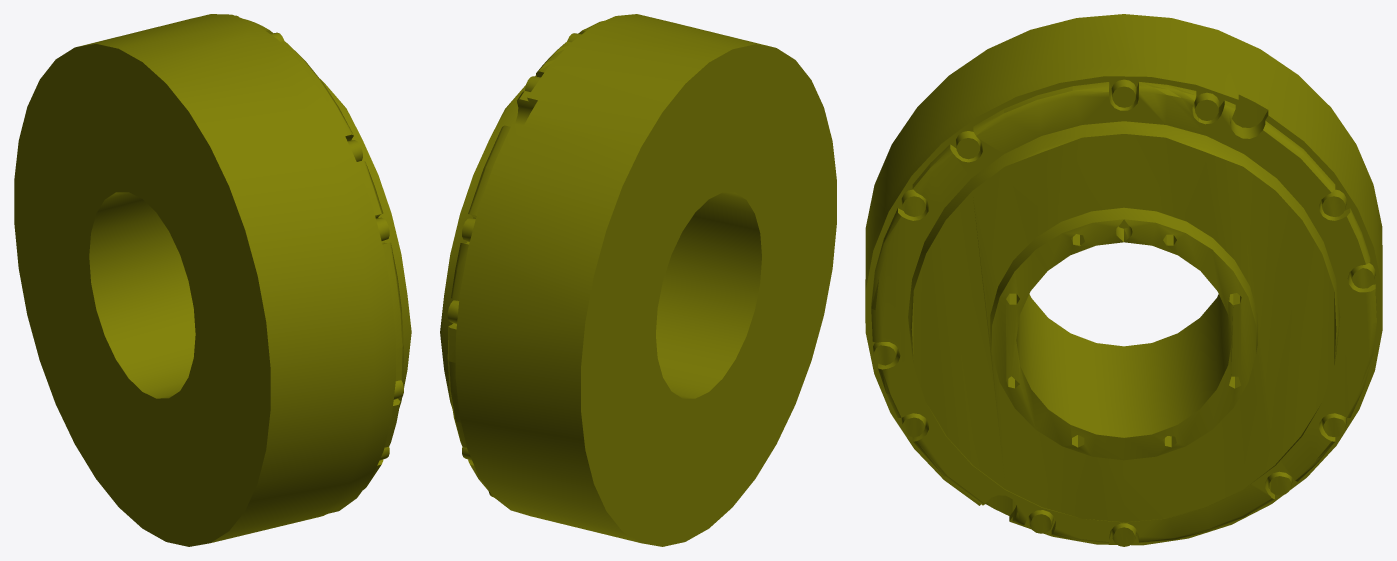
3 views of the same model, side by side, from view 1: azimuth 30°, elevation 25°; view 2: azimuth 150°, elevation 25°; view 3: azimuth 270°, elevation 25° (orthographic).
Visible parts, largest first — view 1: f_1-06vxh25-a0_lk6; view 2: f_1-06vxh25-a0_lk6; view 3: f_1-06vxh25-a0_lk6.
Part boxes in pixels (bbox=[...]): f_1-06vxh25-a0_lk6: bbox=[14, 14, 411, 546]; f_1-06vxh25-a0_lk6: bbox=[440, 14, 836, 546]; f_1-06vxh25-a0_lk6: bbox=[865, 14, 1382, 546].
Size of the model in its own units: 0.0505 by 0.1206 by 0.121.
